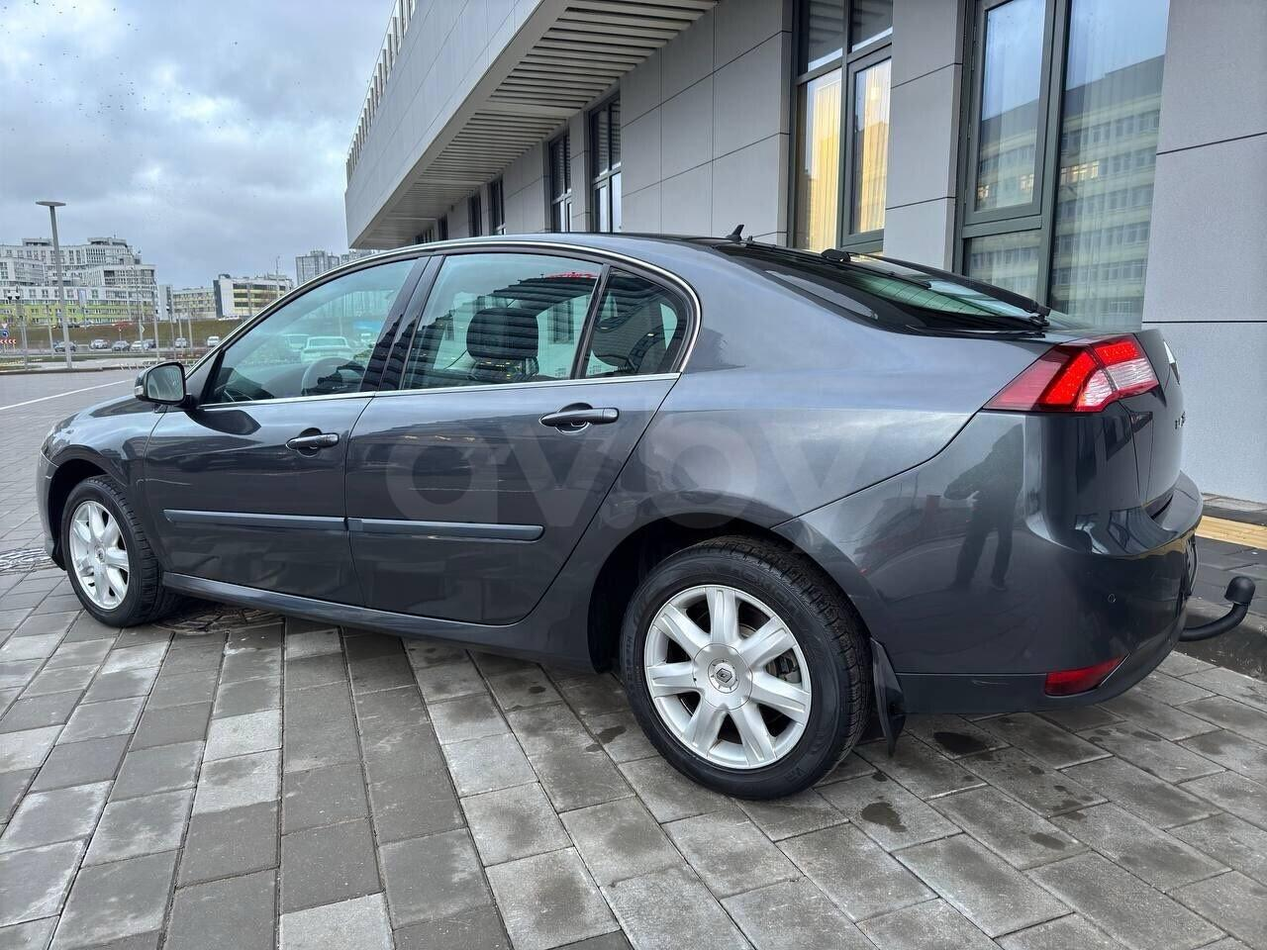Laguna_2010-2015: (31, 208, 1219, 808)
